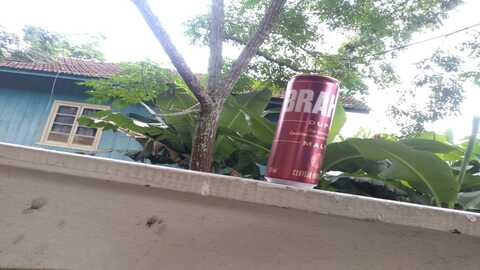duplo_malte: (266, 74, 341, 183)
